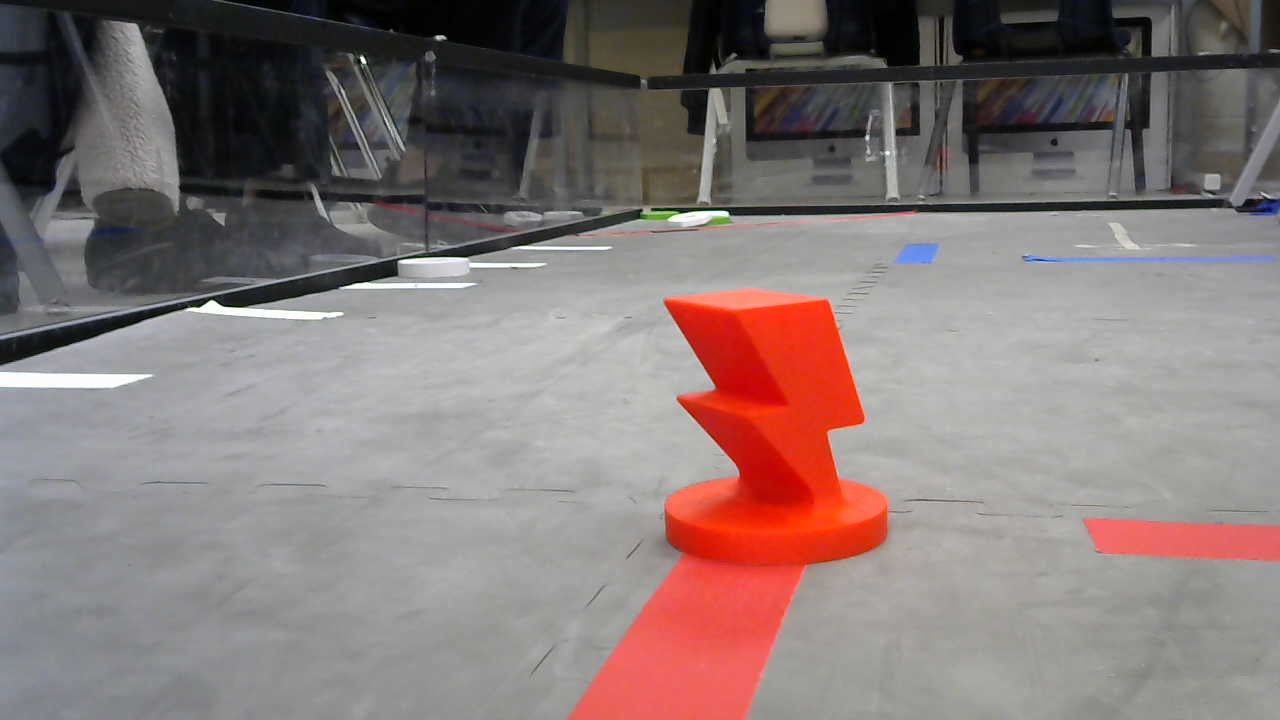redobject: (653, 290, 895, 570)
